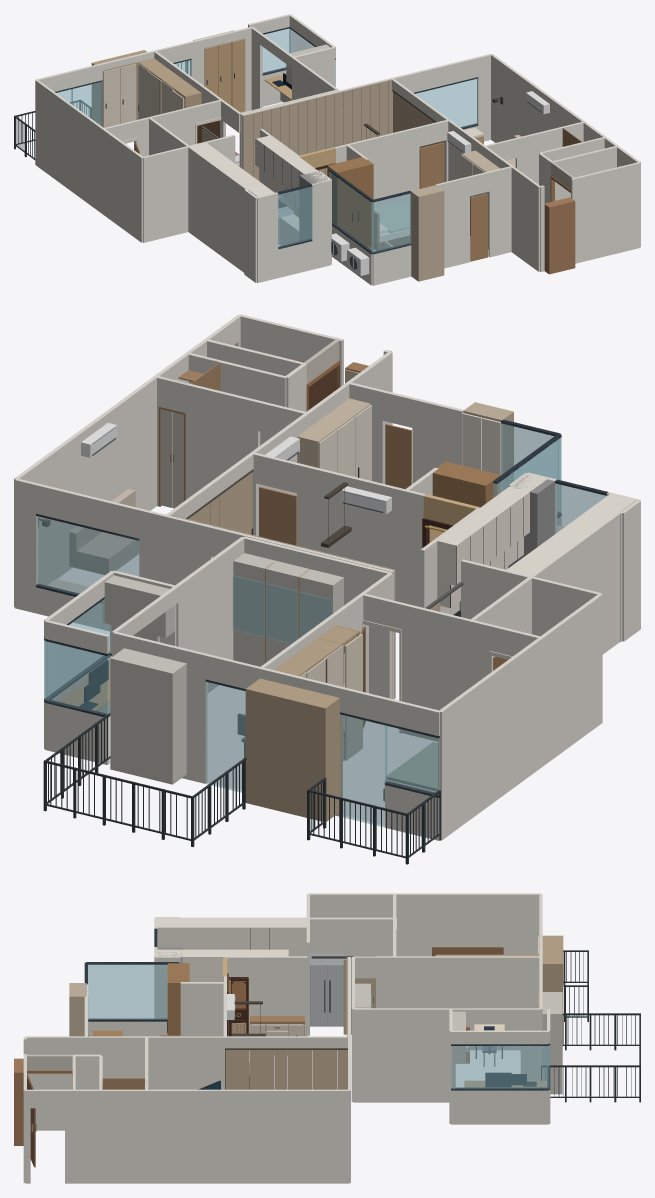
File: A501-furnished-reference.glb
3 renders of one model, top to bottom at view 1: azimuth 30°, elevation 25°; view 2: azimuth 150°, elevation 25°; view 3: azimuth 270°, elevation 25°, orthographic. The views are drawn at different scales.
Visible parts, largest first — view 1: Element 1, Element 19, Element 7, Element 189, Element 5, Element 12, Element 52, Element 4, Element 604, Element 598, Element 13, Element 126 (+67 smaller); view 2: Element 1, Element 371, Element 12, Element 52, Element 572, Element 566, Element 4, Element 56, Element 15, Element 35, Element 79, Element 673 (+74 smaller); view 3: Element 12, Element 79, Element 78, Element 1, Element 17, Element 654, Element 13, Element 25, Element 53, Element 89, Element 44, Element 6 (+41 smaller).
Boxes of the visible parts, x1=… form: Element 1: x1=35, y1=79, x2=104, y2=213; Element 19: x1=571, y1=162, x2=640, y2=263; Element 7: x1=188, y1=147, x2=247, y2=272; Element 189: x1=243, y1=93, x2=336, y2=181; Element 5: x1=143, y1=146, x2=188, y2=242; Element 12: x1=491, y1=54, x2=585, y2=142; Element 52: x1=334, y1=127, x2=419, y2=207; Element 4: x1=102, y1=128, x2=143, y2=242; Element 604: x1=410, y1=185, x2=444, y2=281; Element 598: x1=327, y1=157, x2=373, y2=247; Element 13: x1=483, y1=146, x2=540, y2=271; Element 126: x1=544, y1=197, x2=575, y2=274; Element 1: x1=438, y1=637, x2=542, y2=840; Element 371: x1=245, y1=678, x2=342, y2=821; Element 12: x1=14, y1=376, x2=157, y2=606; Element 52: x1=297, y1=463, x2=425, y2=606; Element 572: x1=110, y1=648, x2=186, y2=784; Element 566: x1=233, y1=553, x2=343, y2=666; Element 4: x1=539, y1=593, x2=602, y2=766; Element 56: x1=402, y1=603, x2=491, y2=741; Element 15: x1=185, y1=383, x2=260, y2=499; Element 35: x1=36, y1=516, x2=139, y2=594; Element 79: x1=175, y1=537, x2=244, y2=692; Element 673: x1=436, y1=474, x2=546, y2=585; Element 12: x1=146, y1=1089, x2=349, y2=1183; Element 79: x1=353, y1=1008, x2=450, y2=1102; Element 78: x1=387, y1=956, x2=540, y2=1049; Element 1: x1=394, y1=893, x2=540, y2=956; Element 17: x1=65, y1=1089, x2=146, y2=1183; Element 654: x1=155, y1=918, x2=308, y2=956; Element 13: x1=25, y1=1036, x2=146, y2=1130; Element 25: x1=88, y1=963, x2=167, y2=1019; Element 53: x1=225, y1=956, x2=307, y2=1036; Element 89: x1=451, y1=1044, x2=548, y2=1090; Element 44: x1=146, y1=1036, x2=224, y2=1089; Element 6: x1=308, y1=917, x2=394, y2=1008.
Size of the model in its own units: 12.34 by 2.7 by 16.53.
